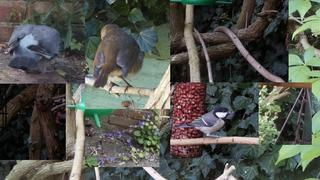great tit: (174, 106, 235, 143)
robin: (92, 24, 146, 95)
wood pigeon: (7, 24, 61, 75)
